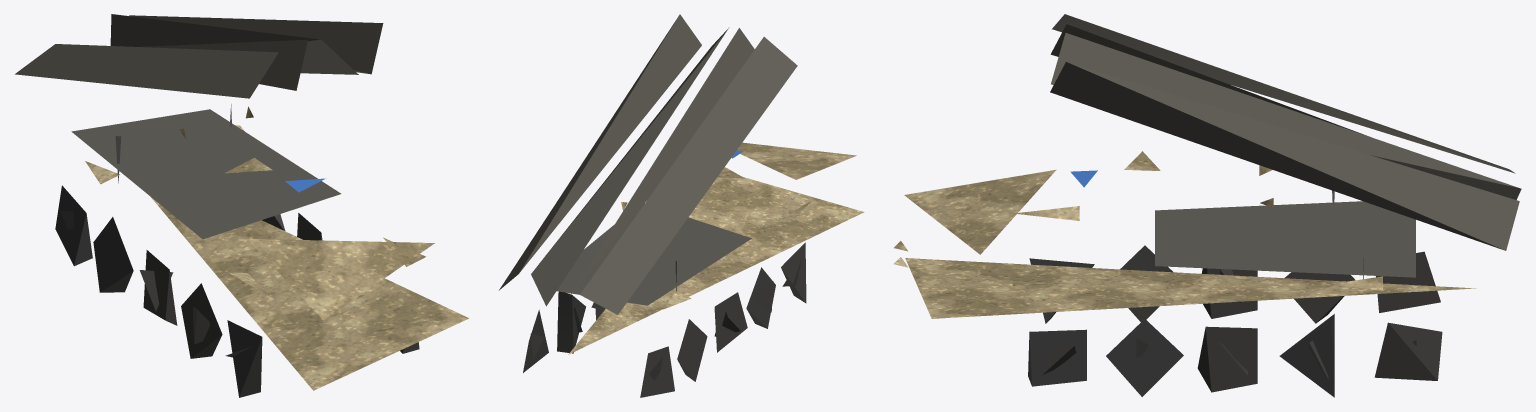
File: aad_e4_us_longsam_LOD2.glb
3 renders of one model, left to right at view 1: azimuth 30°, elevation 25°; view 2: azimuth 150°, elevation 25°; view 3: azimuth 270°, elevation 25°, orthographic. The views are drawn at different scales.
Parts seen in each view (by area): view 1: aad_e4_us_longsam_LOD2_deck, aad_e4_us_longsam_LOD2_body, aad_e4_us_longsam_LOD2_track; view 2: aad_e4_us_longsam_LOD2_deck, aad_e4_us_longsam_LOD2_body, aad_e4_us_longsam_LOD2_track; view 3: aad_e4_us_longsam_LOD2_deck, aad_e4_us_longsam_LOD2_body, aad_e4_us_longsam_LOD2_track.
Part boxes in pixels (<box>): aad_e4_us_longsam_LOD2_deck: <box>15,14,383,239</box>; aad_e4_us_longsam_LOD2_body: <box>85,106,468,390</box>; aad_e4_us_longsam_LOD2_track: <box>55,185,419,397</box>; aad_e4_us_longsam_LOD2_deck: <box>499,14,797,314</box>; aad_e4_us_longsam_LOD2_body: <box>568,142,864,354</box>; aad_e4_us_longsam_LOD2_track: <box>523,242,806,397</box>; aad_e4_us_longsam_LOD2_deck: <box>1050,14,1521,277</box>; aad_e4_us_longsam_LOD2_body: <box>893,151,1476,318</box>; aad_e4_us_longsam_LOD2_track: <box>1028,245,1442,397</box>.
Size of the model in its own units: 3.09 by 5.74 by 9.87.
5 materials, 1 textured.
